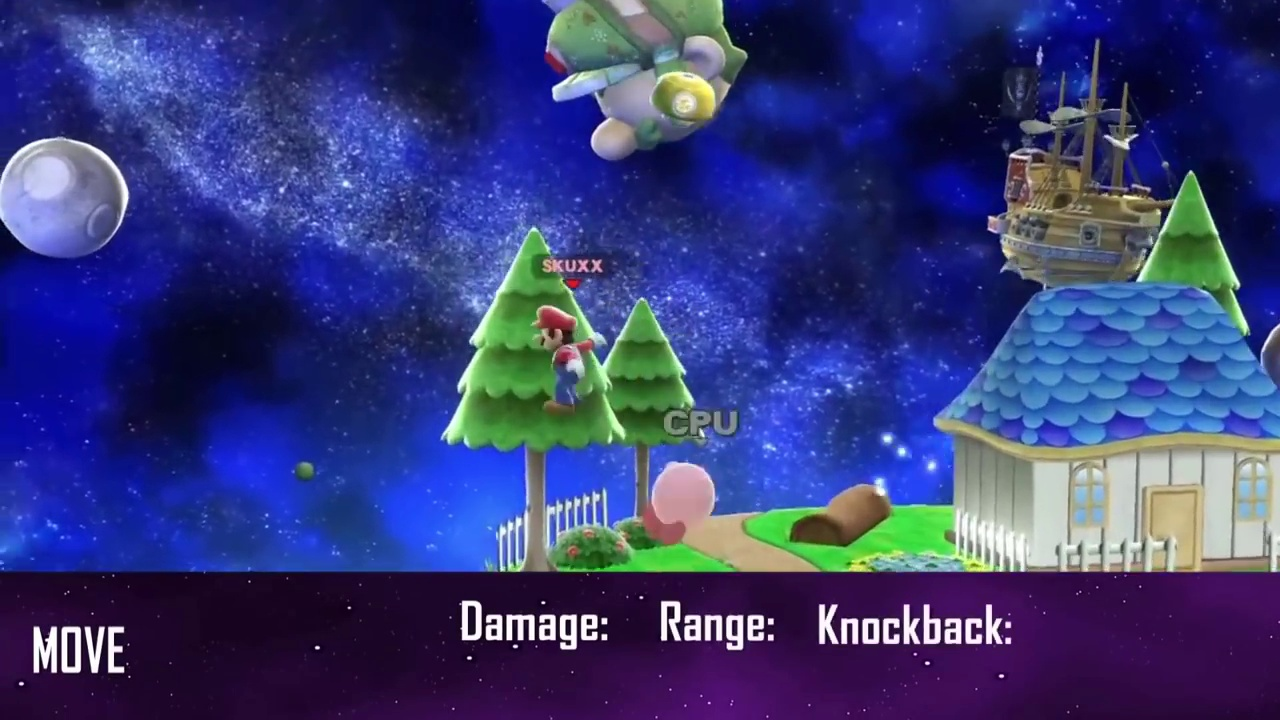Mario: (529, 306, 608, 413)
